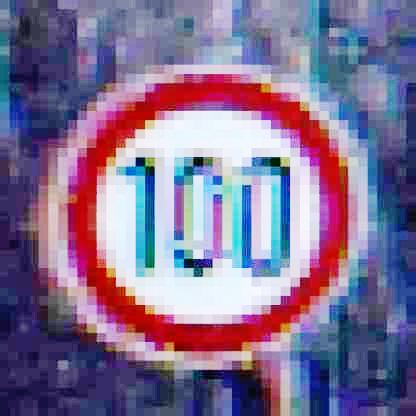Speed Limit -100-: (43, 64, 368, 370)
